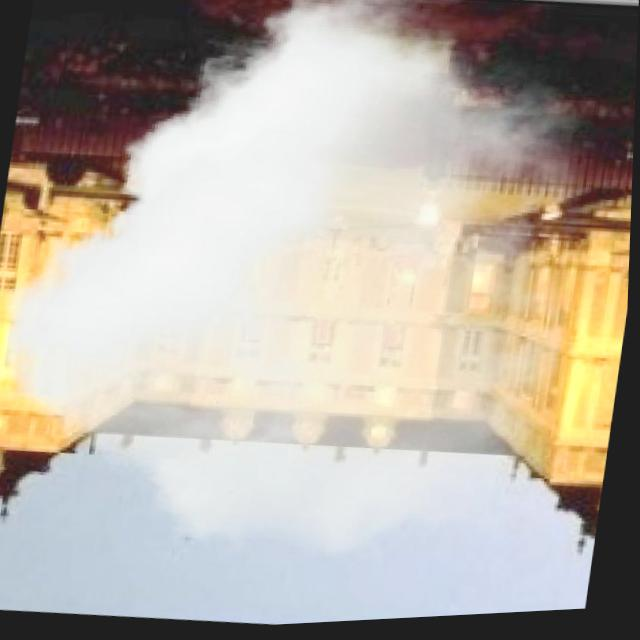no_helmet: (0, 0, 607, 571)
